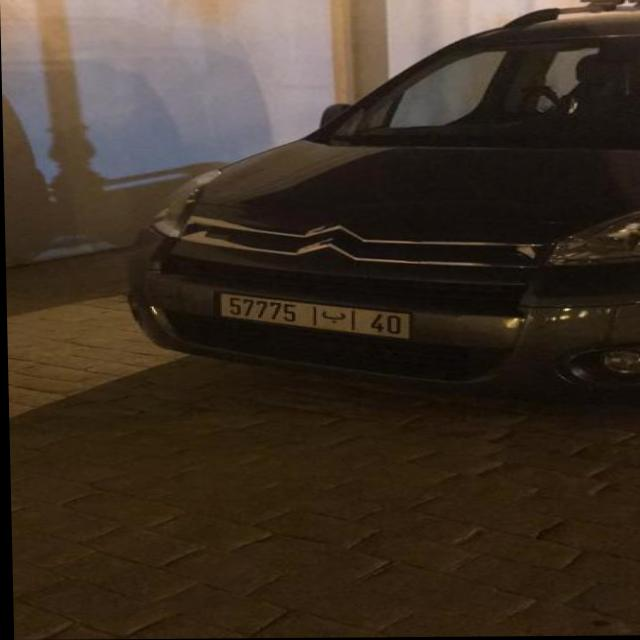License-Plate: (219, 294, 410, 338)
